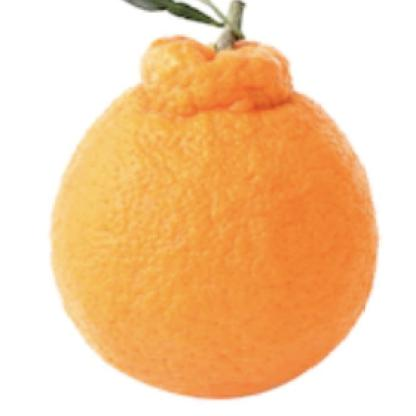fresh: (51, 35, 376, 399)
